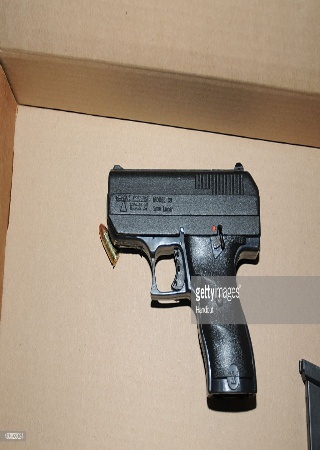handgun: (99, 161, 265, 405)
